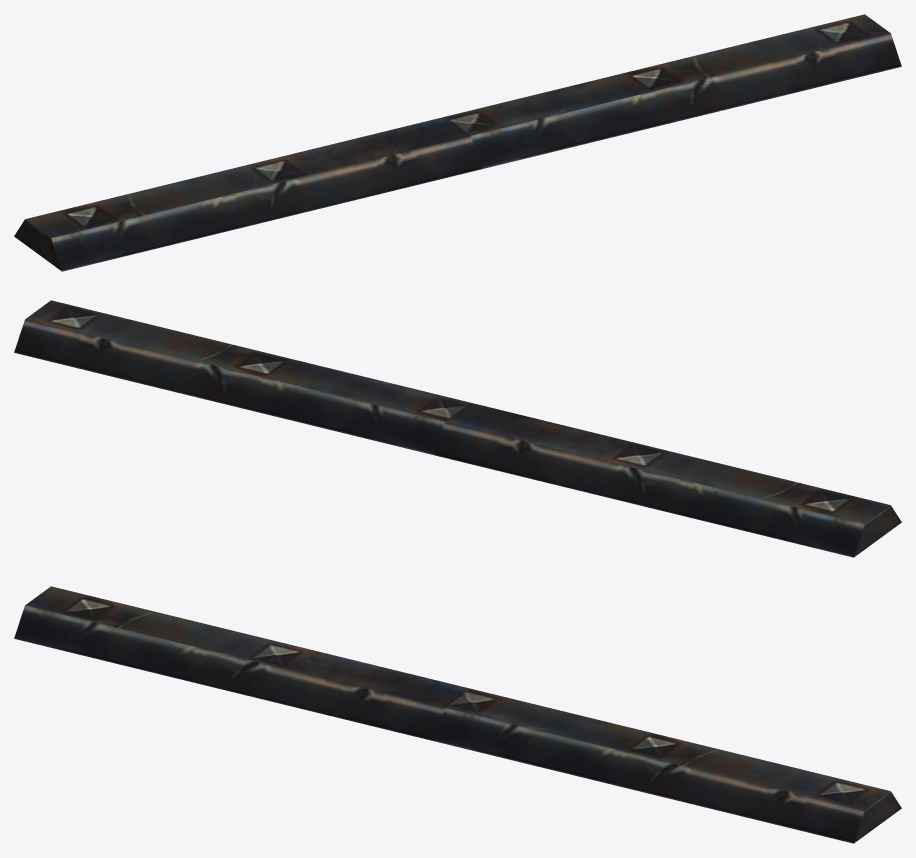
Rendered from B_tietiao003.fbx.
The picture shows the model from 3 angles, top to bottom: view 1: azimuth 30°, elevation 25°; view 2: azimuth 150°, elevation 25°; view 3: azimuth 330°, elevation 25°; orthographic projection.
Parts seen in each view (by area): view 1: B_tietiao003; view 2: B_tietiao003; view 3: B_tietiao003.
Part boxes in pixels (box(x1,y1,x2,y2)): B_tietiao003: box(14, 14, 901, 271); B_tietiao003: box(14, 300, 901, 557); B_tietiao003: box(14, 586, 901, 843).
Size of the model in its own units: 225 by 6.47 by 22.35.
